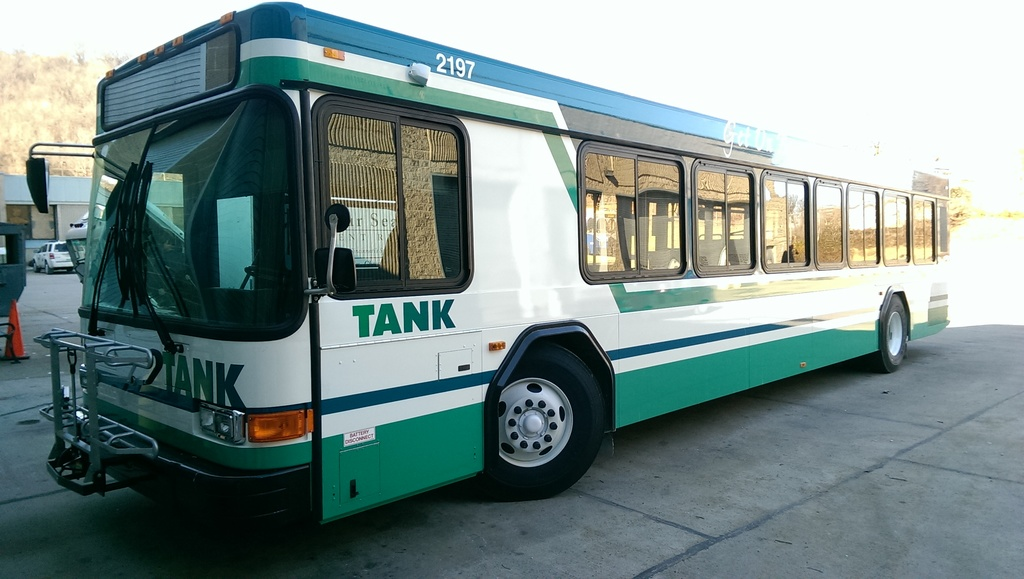Car: (32, 239, 73, 274)
